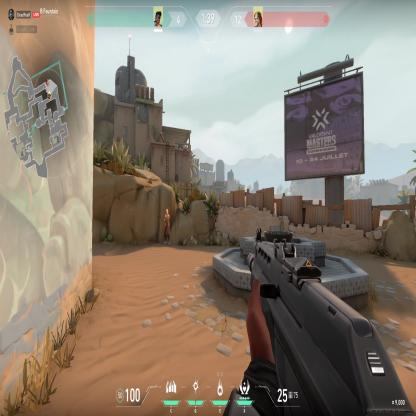enemy: (162, 207, 171, 245)
